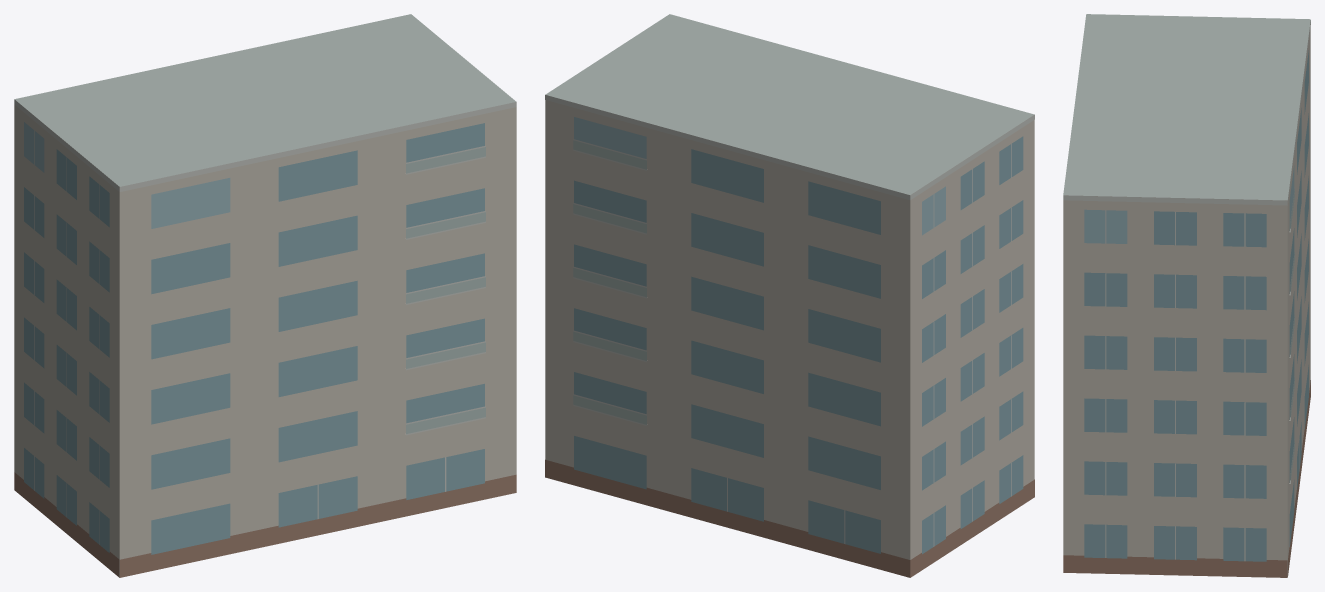
Rendered from survey-upis-32552668.glb.
3 views of the same model, side by side, from view 1: azimuth 30°, elevation 25°; view 2: azimuth 150°, elevation 25°; view 3: azimuth 270°, elevation 25° (orthographic). The views are drawn at different scales.
Visible parts, largest first — view 1: survey-upis-32552668.tmp; view 2: survey-upis-32552668.tmp; view 3: survey-upis-32552668.tmp.
Boxes of the visible parts, <box> form: survey-upis-32552668.tmp: <box>14,14,516,577</box>; survey-upis-32552668.tmp: <box>545,14,1034,577</box>; survey-upis-32552668.tmp: <box>1063,14,1310,577</box>.
Bounding box in the file's own units: 19.4 × 18.3 × 10.89.
